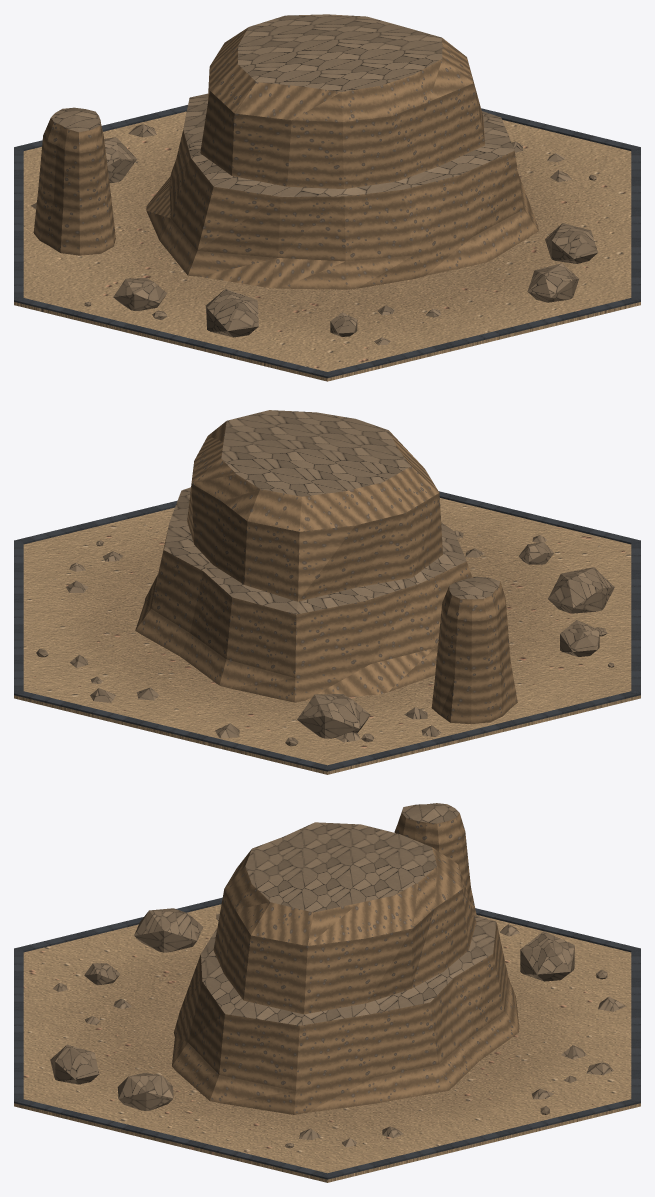
File: WasteRock.glb
3 views of the same model, one above another, from view 1: azimuth 30°, elevation 25°; view 2: azimuth 150°, elevation 25°; view 3: azimuth 270°, elevation 25° (orthographic).
Parts seen in each view (by area): view 1: WasteRock_Butte, WasteRock_Ground, WasteRock_ButteTop, WasteRock_GroundTrim, WasteRock_Boulder; view 2: WasteRock_Butte, WasteRock_Ground, WasteRock_ButteTop, WasteRock_GroundTrim, WasteRock_Boulder; view 3: WasteRock_Ground, WasteRock_Butte, WasteRock_ButteTop, WasteRock_Boulder, WasteRock_GroundTrim.
Boxes of the visible parts, x1,y1,x2,y2 form: WasteRock_Butte: (33, 27, 538, 289); WasteRock_Ground: (14, 111, 640, 381); WasteRock_ButteTop: (51, 14, 514, 196); WasteRock_GroundTrim: (14, 105, 640, 378); WasteRock_Boulder: (31, 124, 597, 345); WasteRock_Butte: (135, 421, 517, 724); WasteRock_Ground: (14, 498, 640, 774); WasteRock_ButteTop: (164, 410, 500, 614); WasteRock_GroundTrim: (14, 491, 640, 771); WasteRock_Boulder: (66, 530, 614, 742); WasteRock_Ground: (14, 904, 640, 1182); WasteRock_Butte: (172, 809, 519, 1114); WasteRock_ButteTop: (201, 803, 496, 1025); WasteRock_Boulder: (50, 908, 626, 1147); WasteRock_GroundTrim: (14, 897, 640, 1179).
Size of the model in its own units: 12 by 3.32 by 10.39.
Materials: 4 (4 with a texture image).
